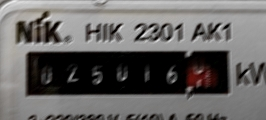0: (115, 59, 129, 82), (39, 63, 52, 85), (191, 54, 203, 74)
1: (140, 58, 151, 83), (193, 77, 201, 88)
2: (65, 60, 78, 83)
5: (90, 63, 101, 84)
6: (164, 61, 177, 86)
screen: (16, 41, 238, 102)
